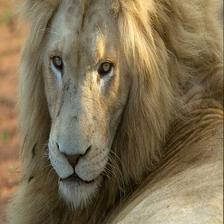Lion: (12, 0, 223, 221)
